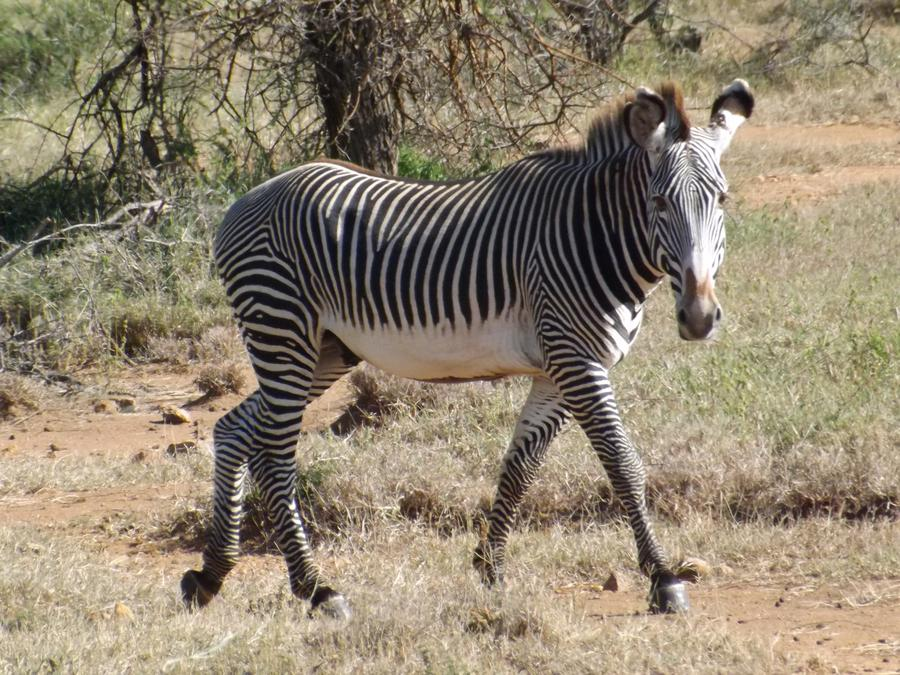zebra_grevys: (203, 133, 616, 372)
